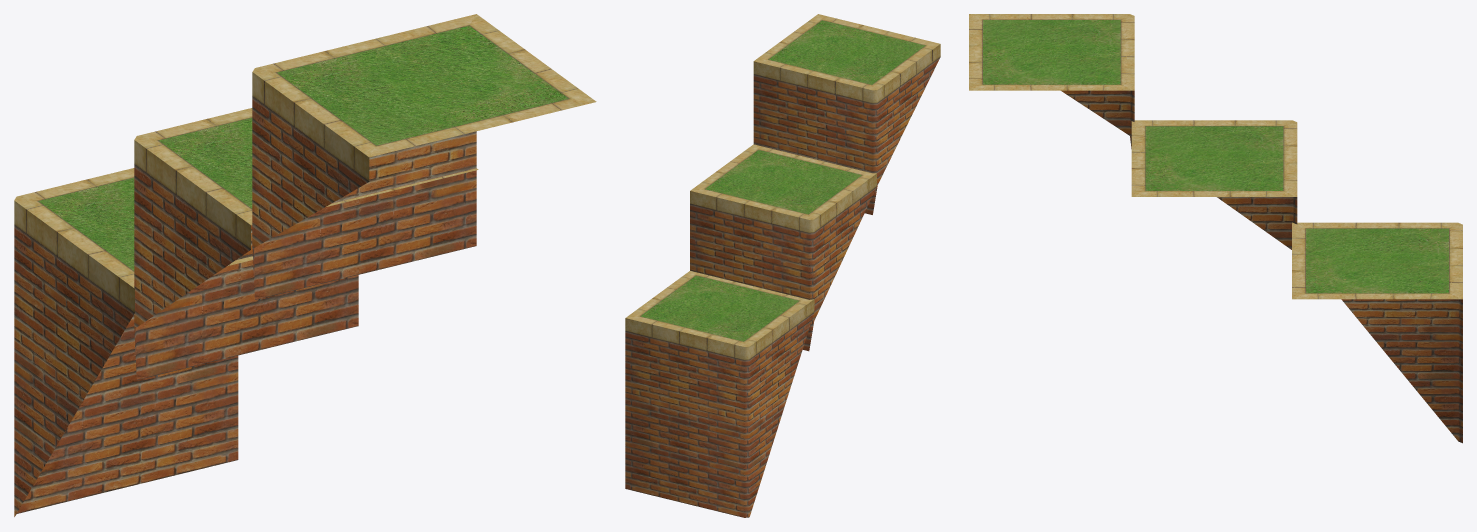
The model's file is MhouseB_Base_35R_Plants.fbx.
3 renders of one model, left to right at view 1: azimuth 30°, elevation 25°; view 2: azimuth 150°, elevation 25°; view 3: azimuth 270°, elevation 25°, orthographic. The views are drawn at different scales.
Parts seen in each view (by area): view 1: ct2_01_n1_yc1_MhouseplantsbaseB35R_01; view 2: ct2_01_n1_yc1_MhouseplantsbaseB35R_01; view 3: ct2_01_n1_yc1_MhouseplantsbaseB35R_01.
Boxes of the visible parts, left/top/right/bottom form: ct2_01_n1_yc1_MhouseplantsbaseB35R_01: left=14, top=14, right=596, bottom=516; ct2_01_n1_yc1_MhouseplantsbaseB35R_01: left=625, top=14, right=940, bottom=517; ct2_01_n1_yc1_MhouseplantsbaseB35R_01: left=969, top=14, right=1462, bottom=443.
Bounding box in the file's own units: 215 × 559 × 585.
